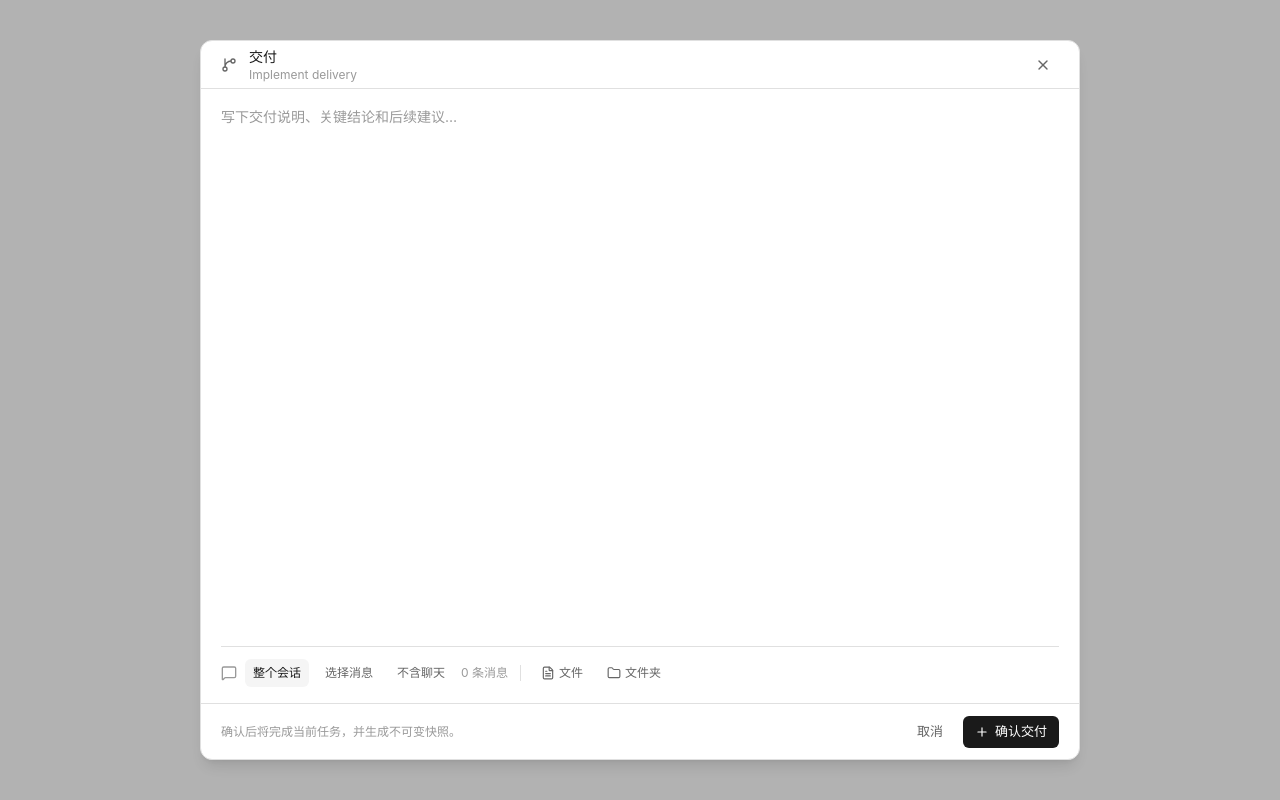
DeliveryDialog › discards the draft when finalization fails
Click the button with test id "delivery-confirm" at x=1011, y=732, box [963,716,1059,748]
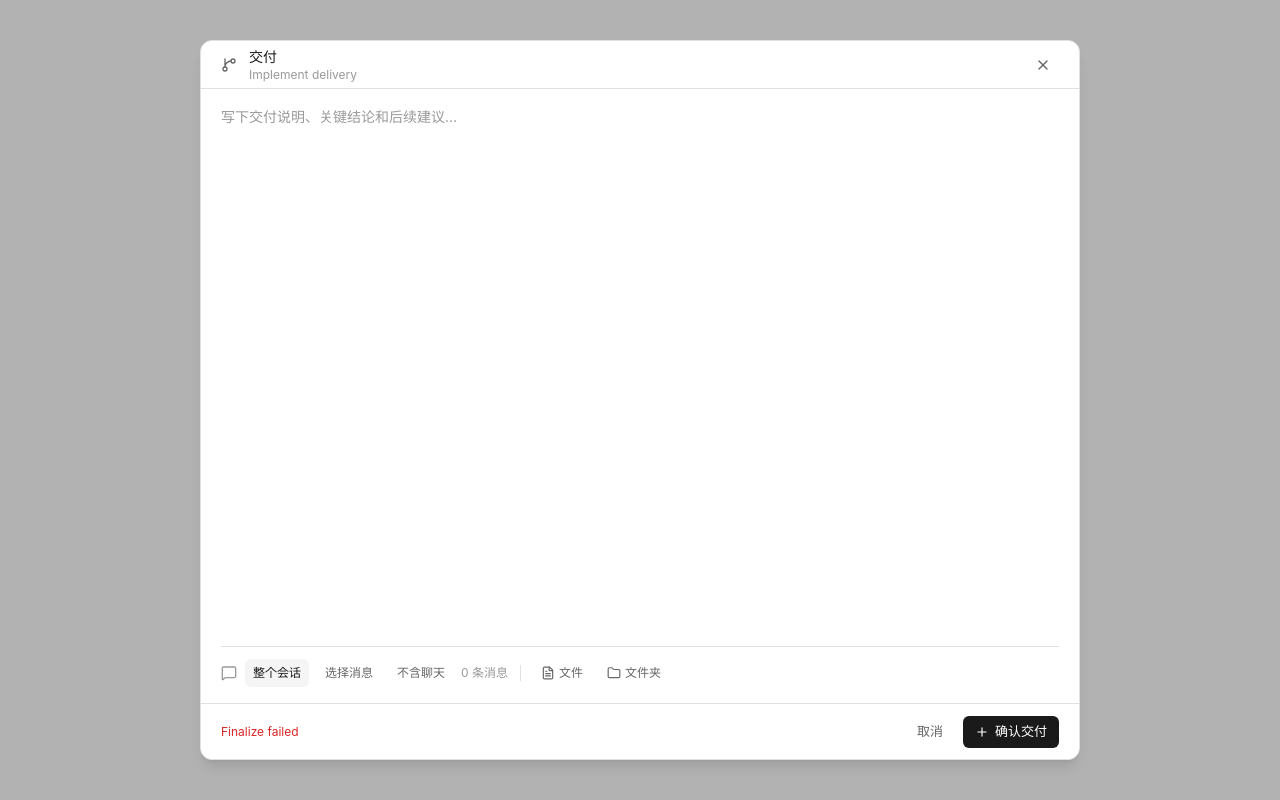
Now the text "Finalize failed" is shown, box [221,724,299,738]
